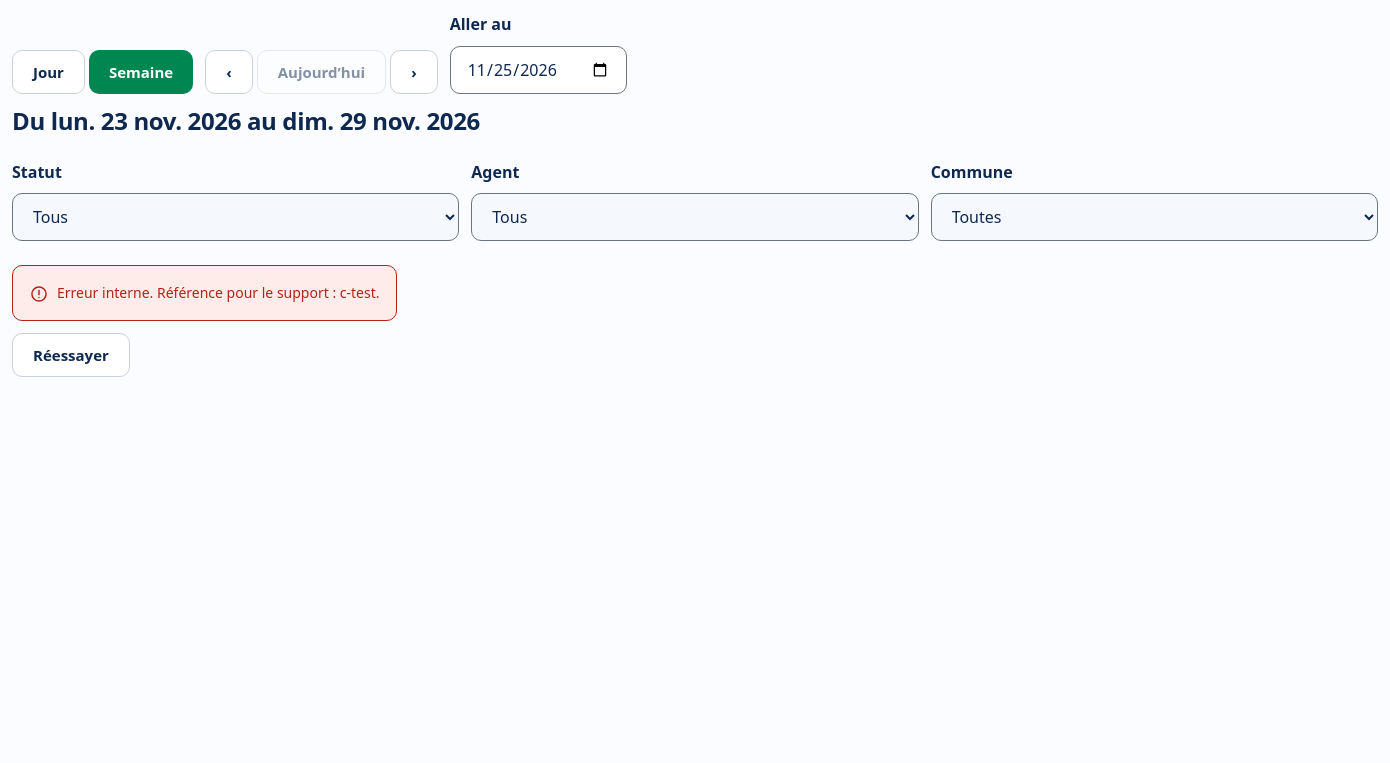
Test case: calendrier des visites : gestion, états et droits › erreur de la gateway : message lisible et « Réessayer »
Click the button "Réessayer" at (71, 355), box [12,333,130,377]
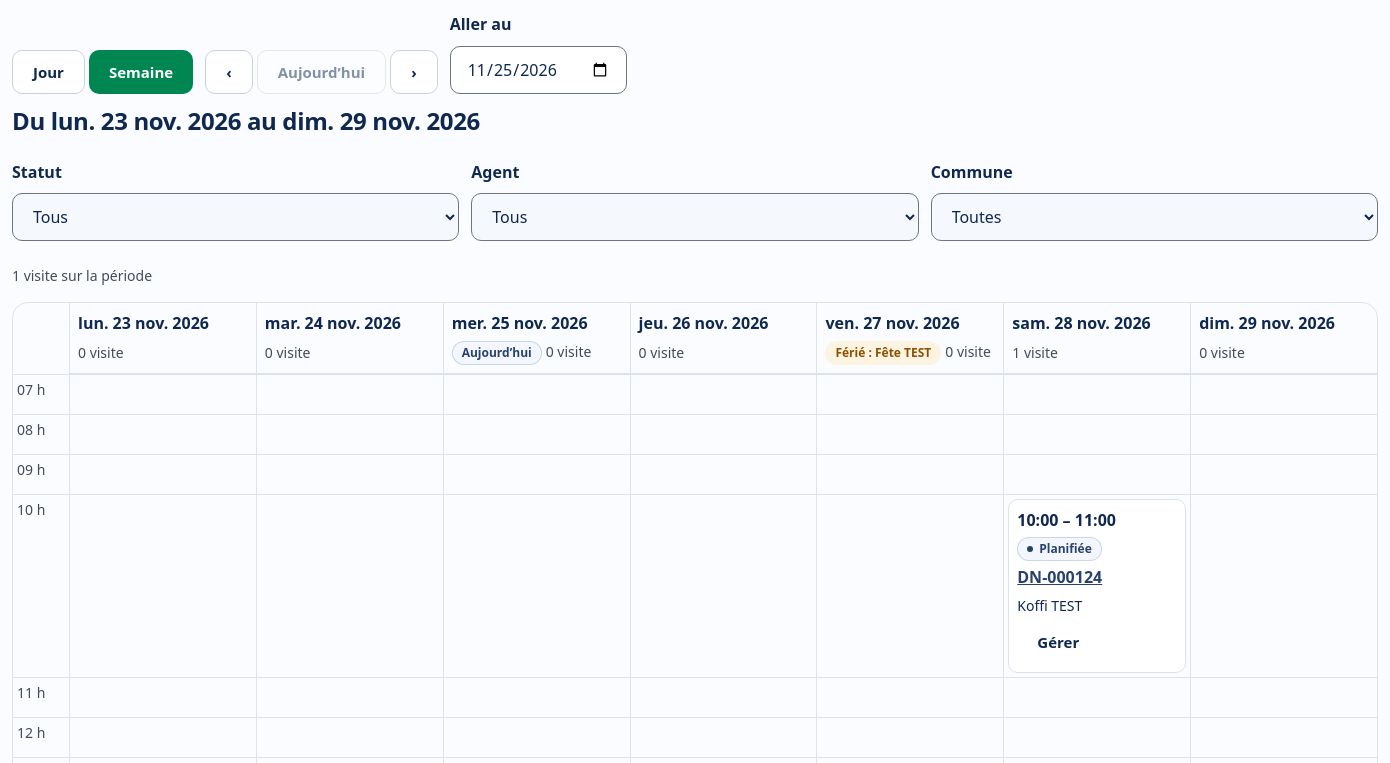
Result: the text "1 visite sur la période" is shown at [12,266,152,285]
